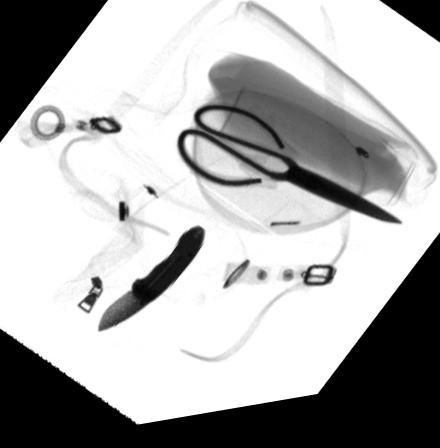Knife: (97, 232, 206, 336)
Scissors: (177, 110, 403, 239)
